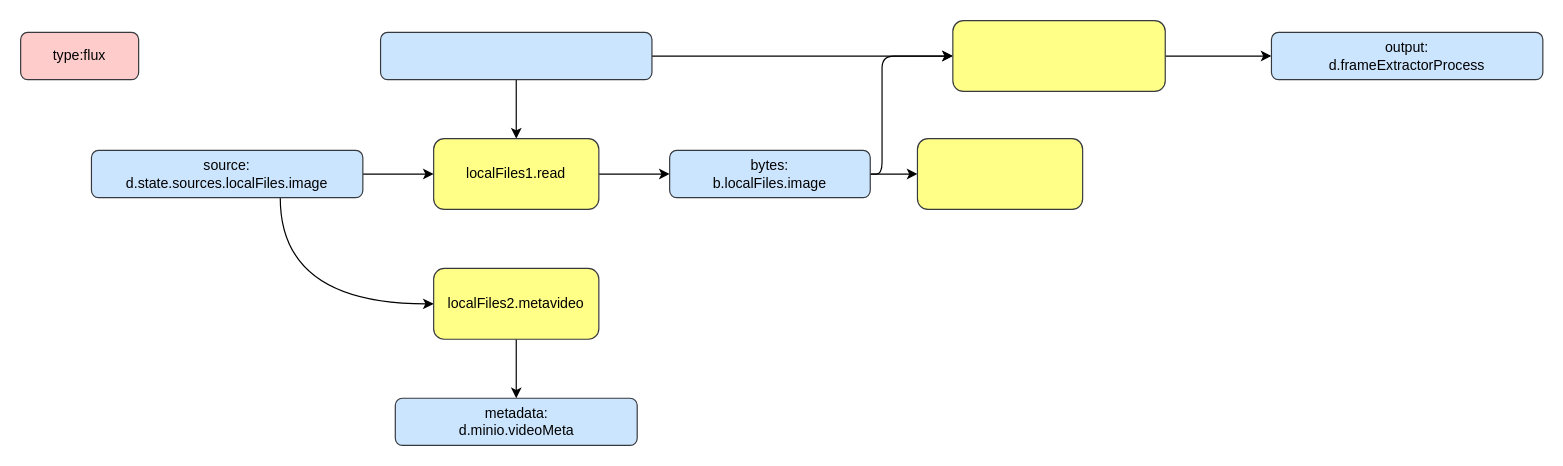
Image size: 1563x466. Some labels were removed from this diagram. The shapes that lost their labels are listed below. From the top down, each one's centre as x and y in pixels, then its label:
At point 515,55: "timeline: d.state.timelines.t2sec".
At point 1058,55: "frameExtractor1.indexFace".
At point 999,173: "localFiles3.write".
